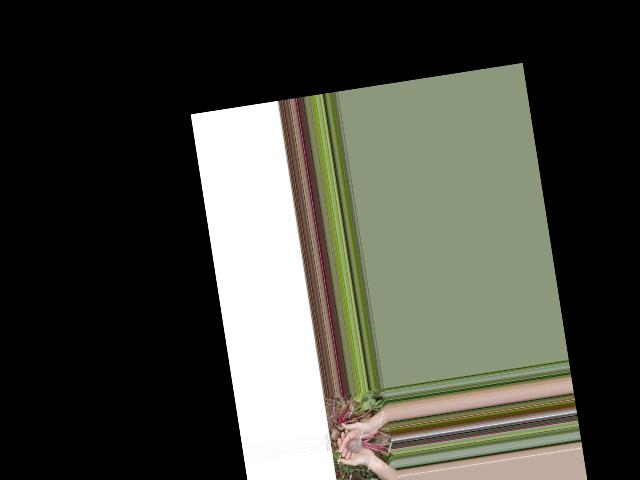beet: (343, 428, 392, 463)
